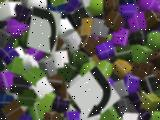Right: (67, 65, 121, 120), (27, 6, 61, 55)
